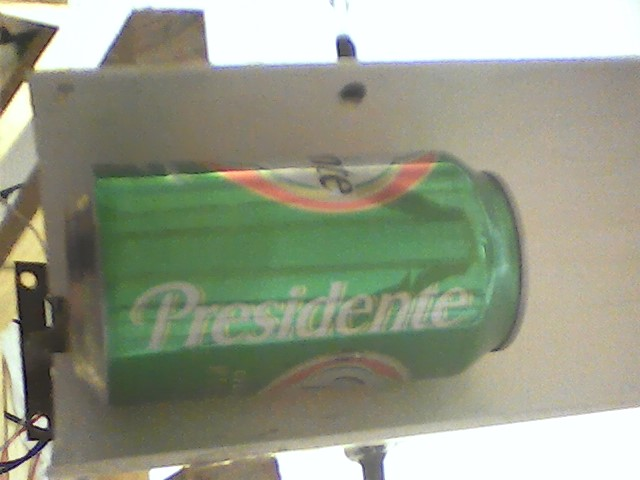lata: (53, 149, 541, 413)
